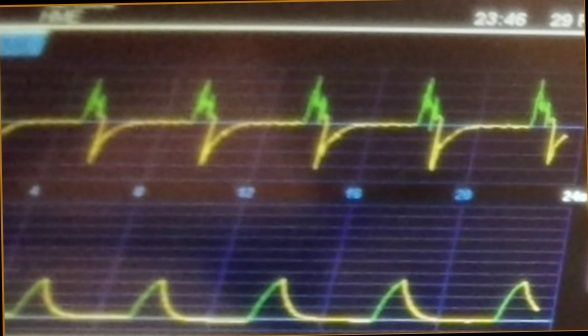Accumulation Flow: (3, 68, 568, 177)
Volume: (7, 243, 544, 327)
